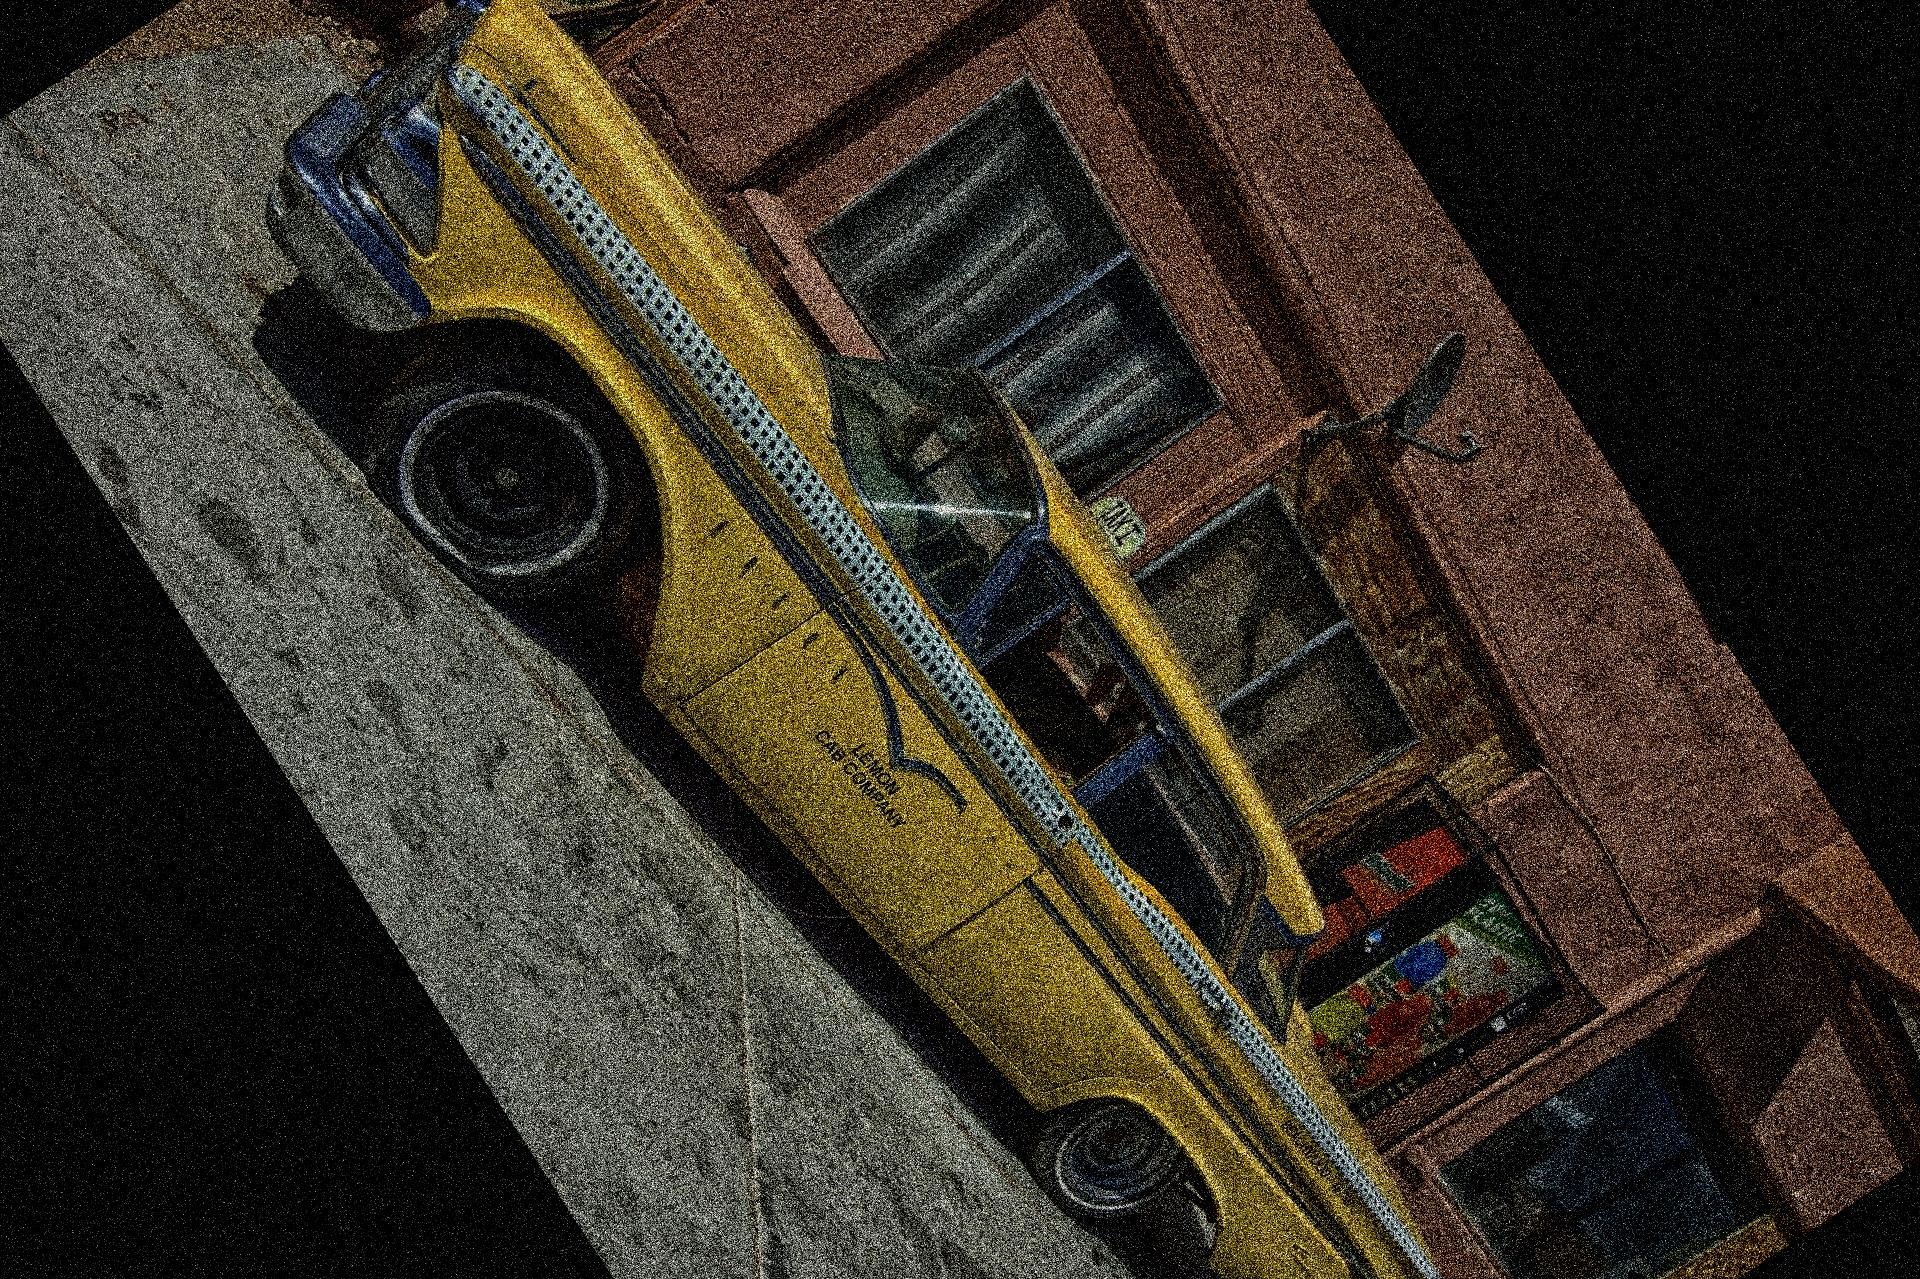taxi: (273, 14, 1465, 1279)
